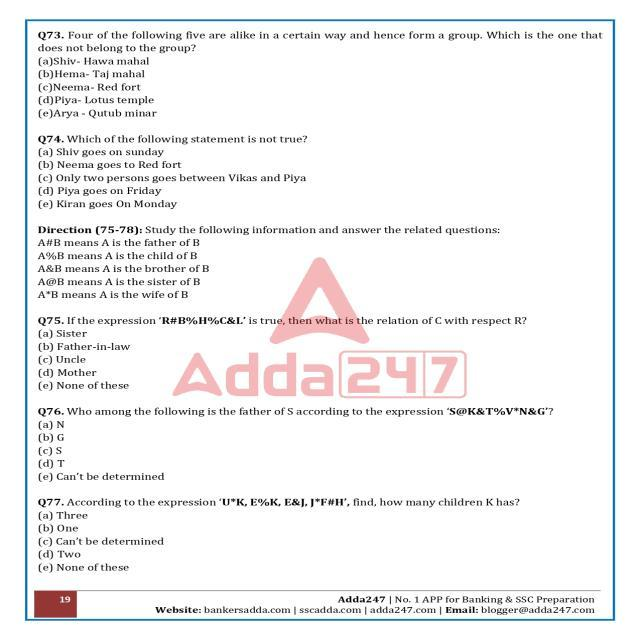Answer_Block: (28, 53, 618, 121), (26, 326, 614, 394), (27, 509, 614, 576), (28, 147, 616, 211), (26, 420, 612, 483)
Instruction: (25, 222, 612, 310)
Question_Answer_Block: (25, 28, 616, 120), (24, 496, 612, 576), (22, 313, 615, 392), (28, 406, 616, 484), (28, 133, 616, 210)
Question_Block: (28, 28, 616, 53), (20, 312, 616, 329), (27, 496, 619, 512), (25, 406, 616, 419), (24, 133, 612, 146)
Question_Paper_Area: (29, 26, 616, 582)
